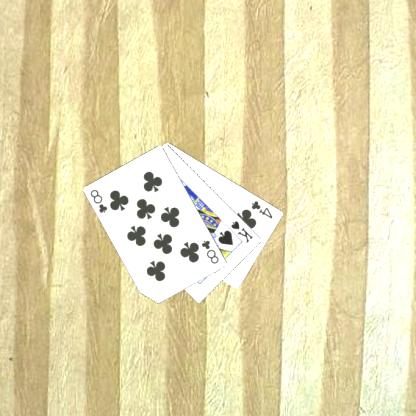4C: (249, 198, 274, 220)
8C: (199, 238, 220, 266), (88, 186, 109, 214)
KS: (228, 218, 254, 244)
